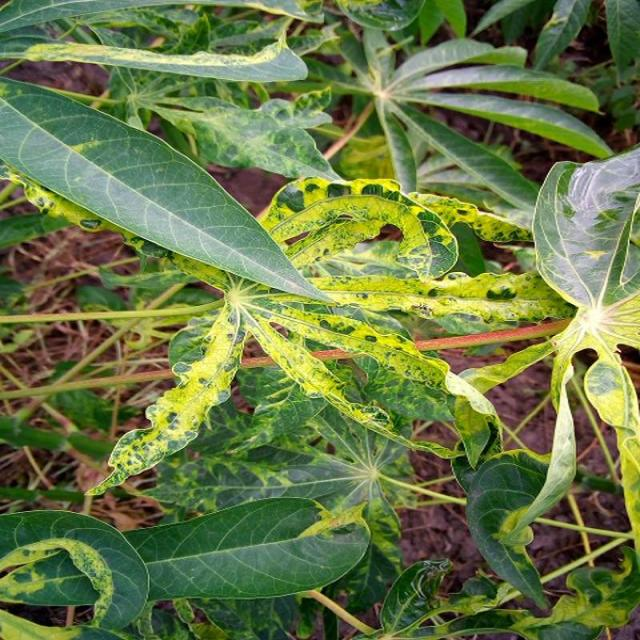cassava leaf: (0, 74, 338, 307)
